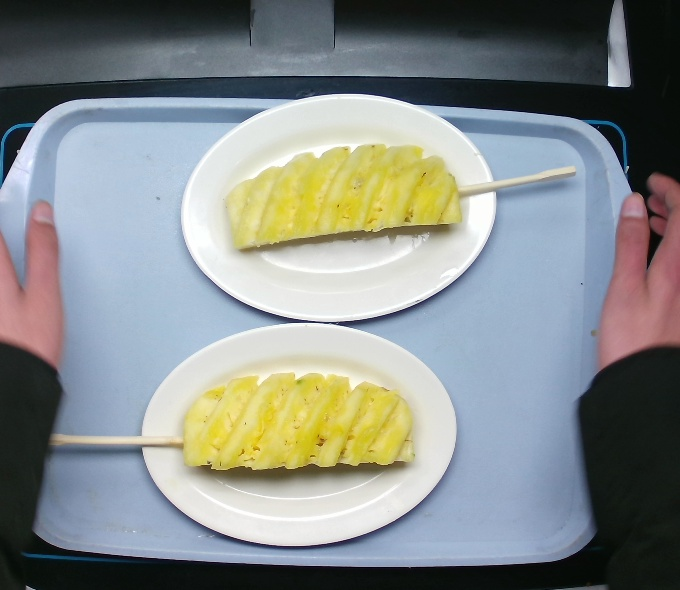wcq-BoLuo: (172, 360, 420, 491), (217, 134, 468, 263)
